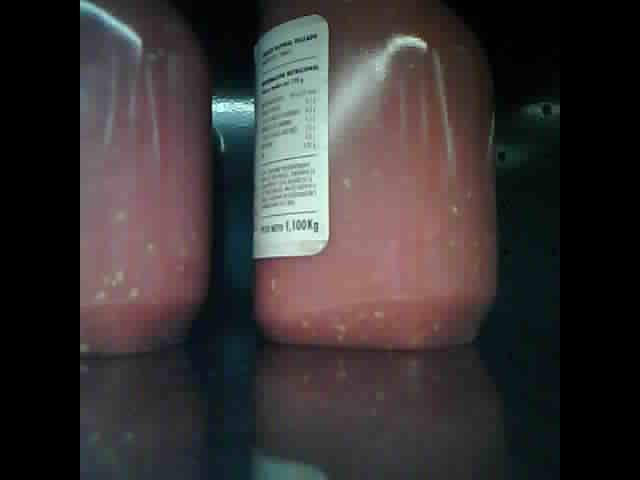tomate: (253, 5, 500, 348), (82, 5, 213, 357)
